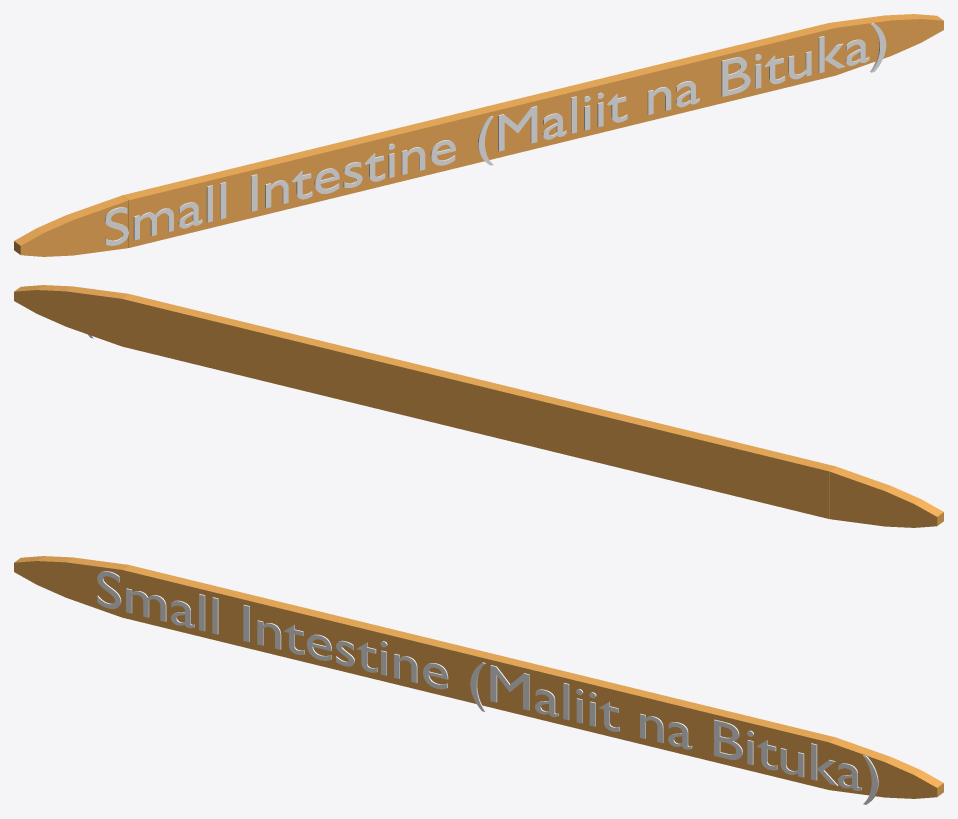
File: txtSmallIntestine.fbx
3 renders of one model, top to bottom at view 1: azimuth 30°, elevation 25°; view 2: azimuth 150°, elevation 25°; view 3: azimuth 330°, elevation 25°, orthographic.
Visible parts, largest first — view 1: TagContainer.076, Text.077; view 2: TagContainer.076; view 3: TagContainer.076, Text.077.
Boxes of the visible parts, <box> form: TagContainer.076: <box>14,14,943,256</box>; Text.077: <box>104,23,886,245</box>; TagContainer.076: <box>14,285,943,527</box>; TagContainer.076: <box>14,556,943,798</box>; Text.077: <box>97,571,878,804</box>.
Bounding box in the file's own units: 836 × 45.66 × 11.92.
